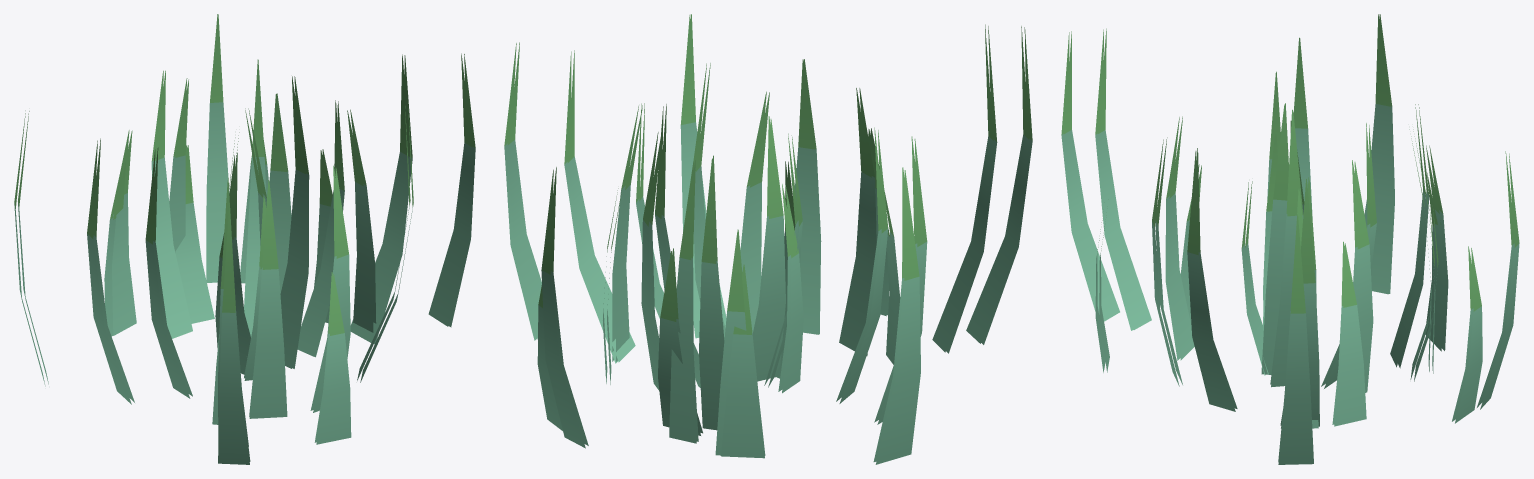
File: flora_grass_clump_c.gltf
3 renders of one model, left to right at view 1: azimuth 30°, elevation 25°; view 2: azimuth 150°, elevation 25°; view 3: azimuth 270°, elevation 25°, orthographic. The views are drawn at different scales.
Visible parts, largest first — view 1: flora_grass_clump_c; view 2: flora_grass_clump_c; view 3: flora_grass_clump_c.
Boxes of the visible parts, x1,y1,x2,y2 form: flora_grass_clump_c: (14,14,475,464); flora_grass_clump_c: (504,14,1032,464); flora_grass_clump_c: (1061,14,1519,464).
Size of what is drawn, in the model's own units: 0.3849 by 0.2552 by 0.3693.
